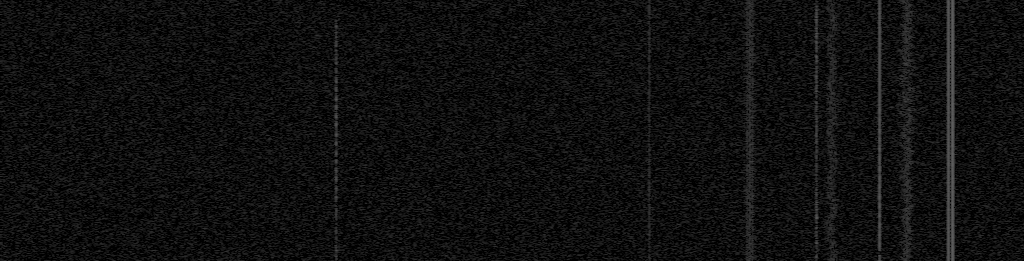wv_am: (877, 0, 882, 251), (877, 255, 882, 261)
wv_cw: (950, 0, 956, 261), (946, 0, 951, 261), (647, 0, 652, 261)
wv_usb: (814, 4, 820, 261), (333, 121, 339, 261), (333, 49, 339, 120), (333, 6, 339, 48)
wv_wbfm: (892, 0, 922, 261), (822, 0, 842, 261), (741, 0, 758, 261)
